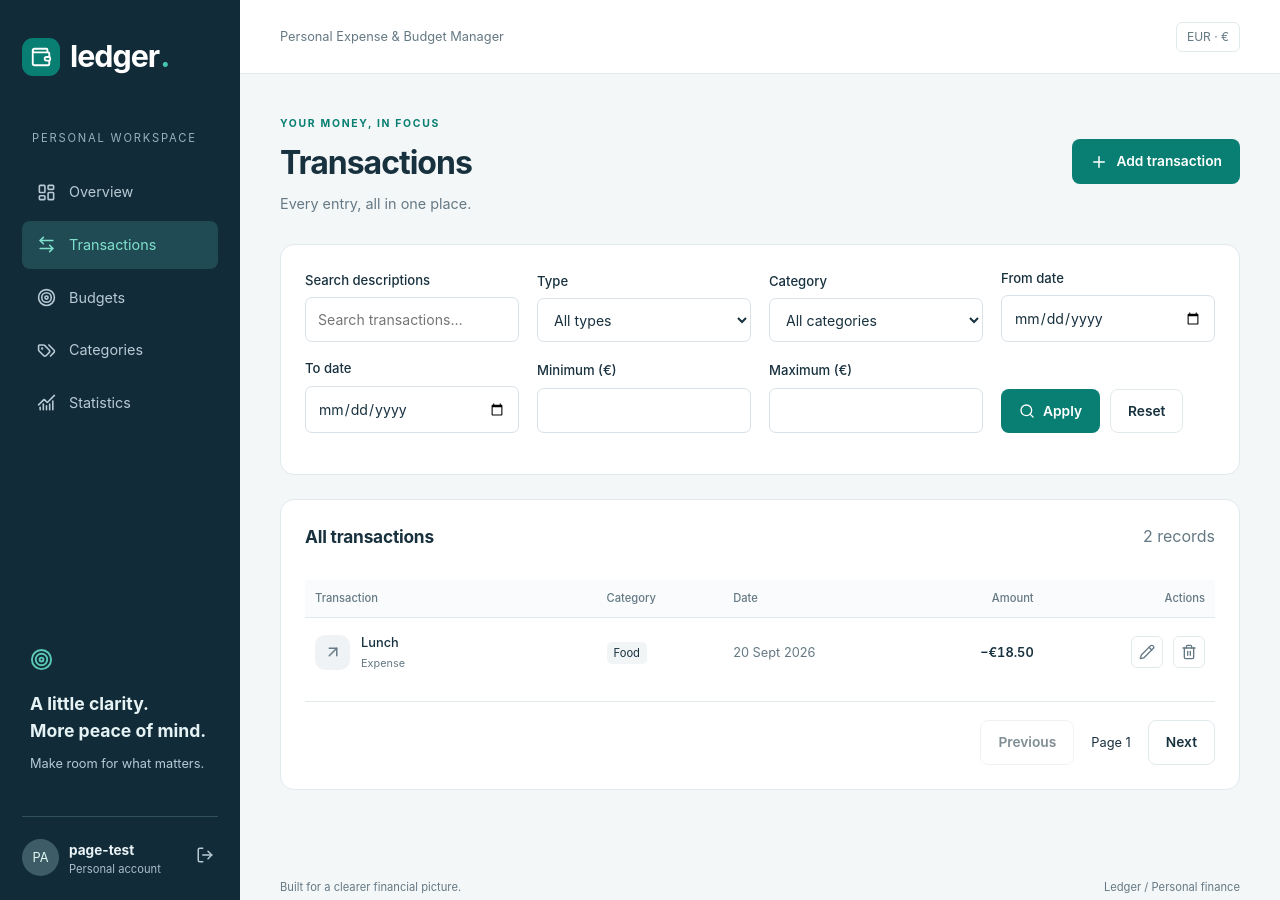
Test: transaction and budget pages with MSW › moves between transaction pages and deletes the last row on a later page
Expected: the text "Lunch" is shown, [361, 633, 405, 652]
Click the button "Next".
click(1181, 743)  # box [1148, 720, 1215, 765]
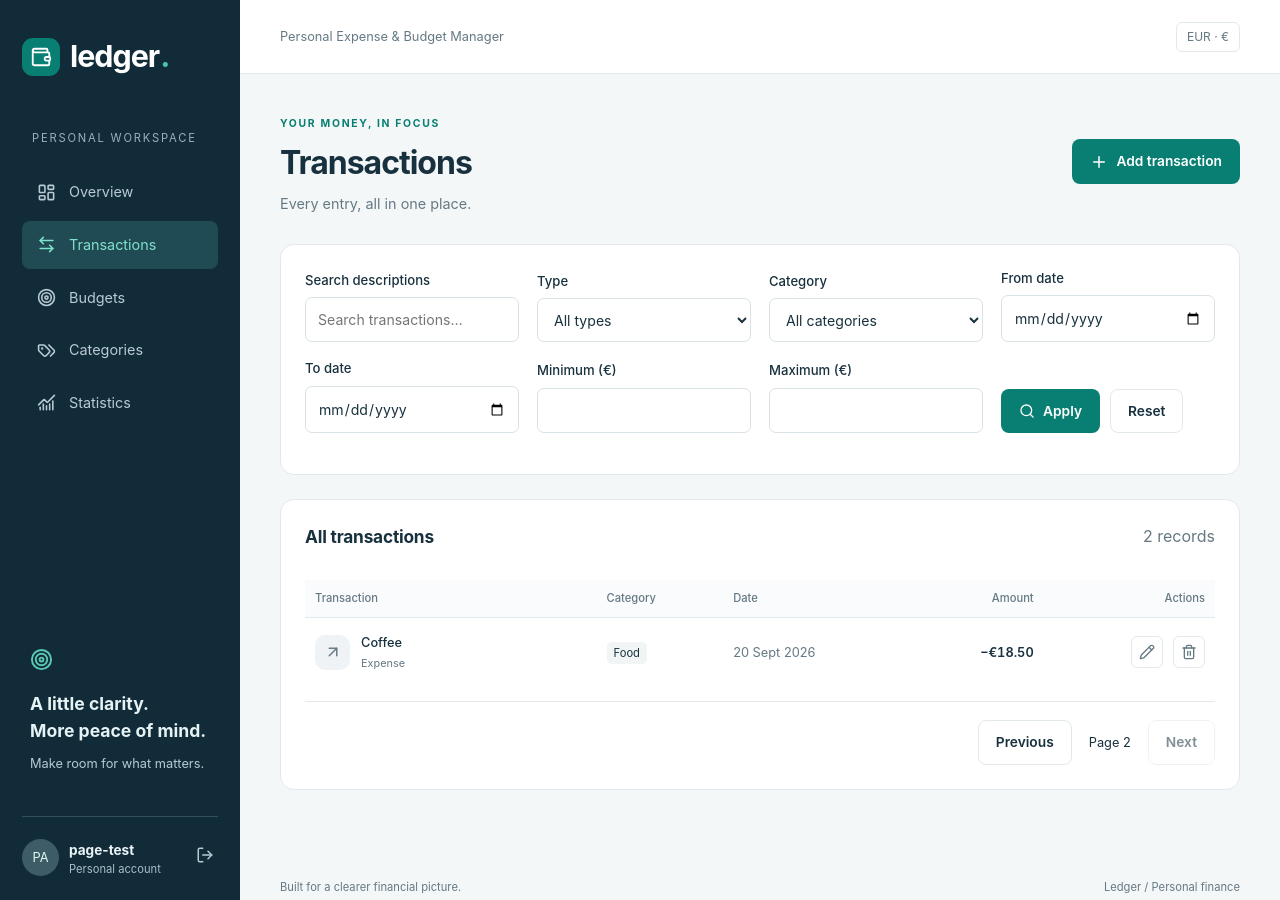
Expected: the text "Coffee" is shown, [361, 633, 405, 652]
Expected: the text "Page 2" is shown, [1089, 733, 1131, 752]
Click the button "Previous".
click(1025, 743)  # box [978, 720, 1072, 765]
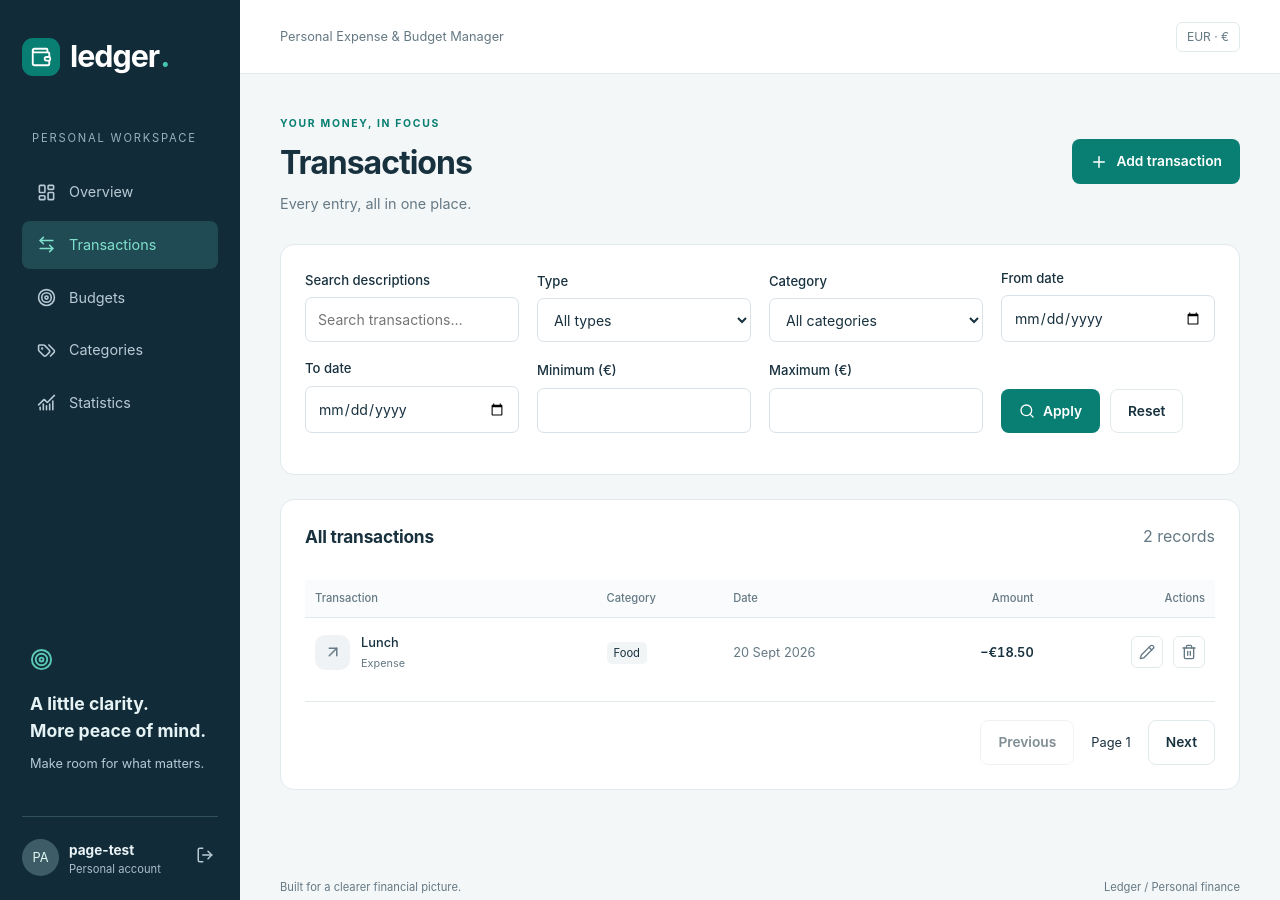
Expected: the text "Lunch" is shown, [361, 633, 405, 652]
Click the button "Next".
click(1181, 743)  # box [1148, 720, 1215, 765]
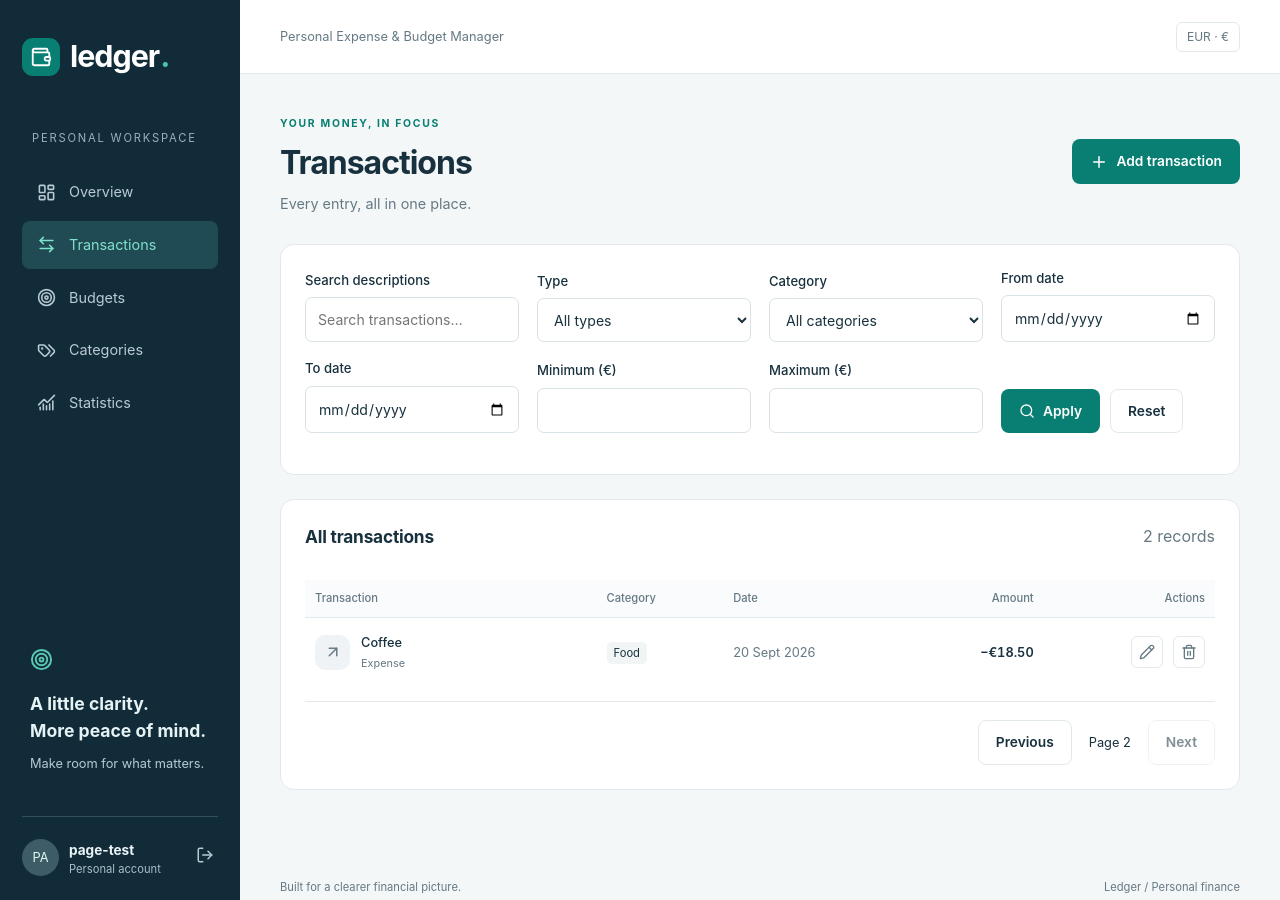
Expected: the text "Coffee" is shown, [361, 633, 405, 652]
Click the button named "Delete Coffee".
click(1189, 652)  # box [1173, 636, 1205, 668]
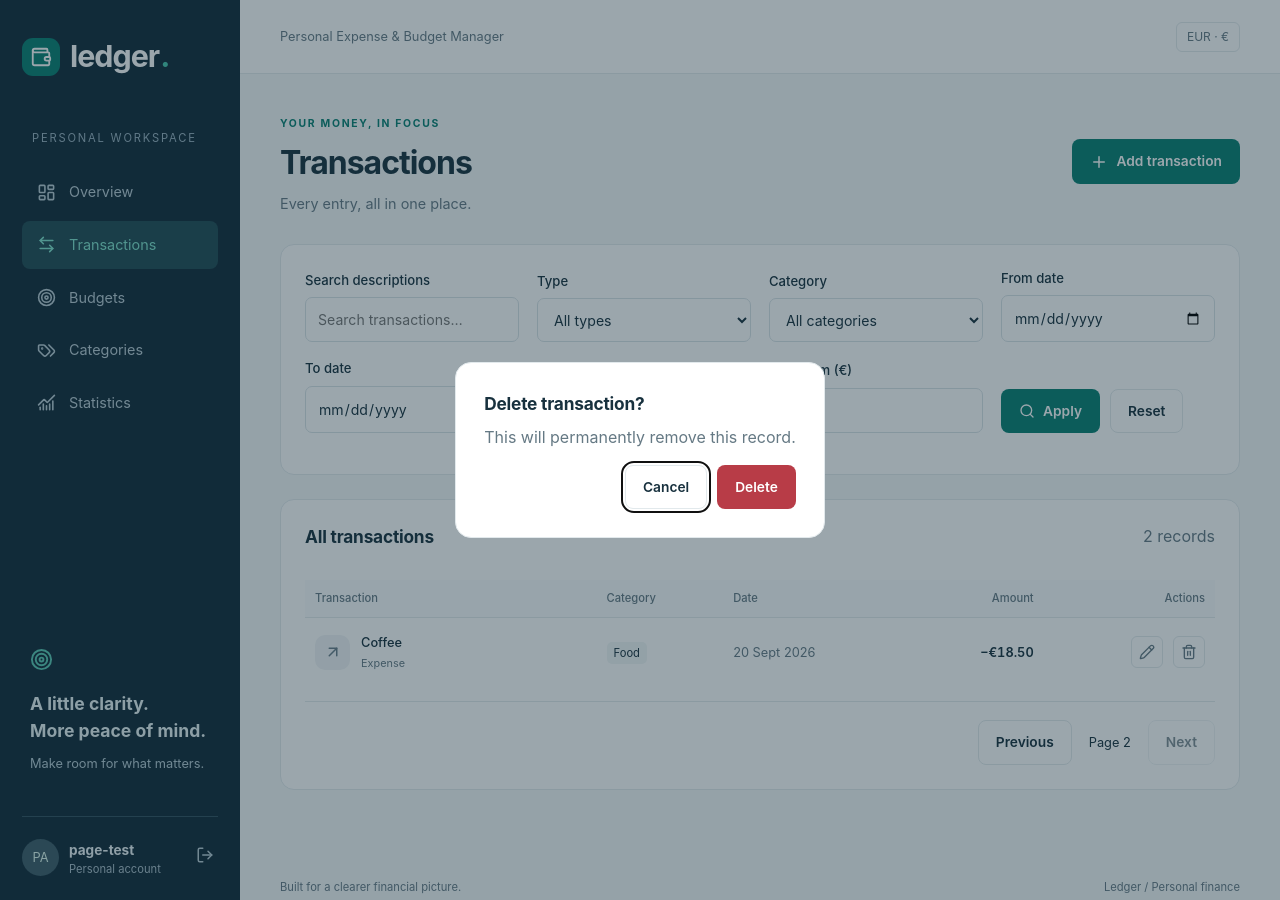
Click the button "Delete".
click(756, 487)  # box [717, 465, 796, 509]
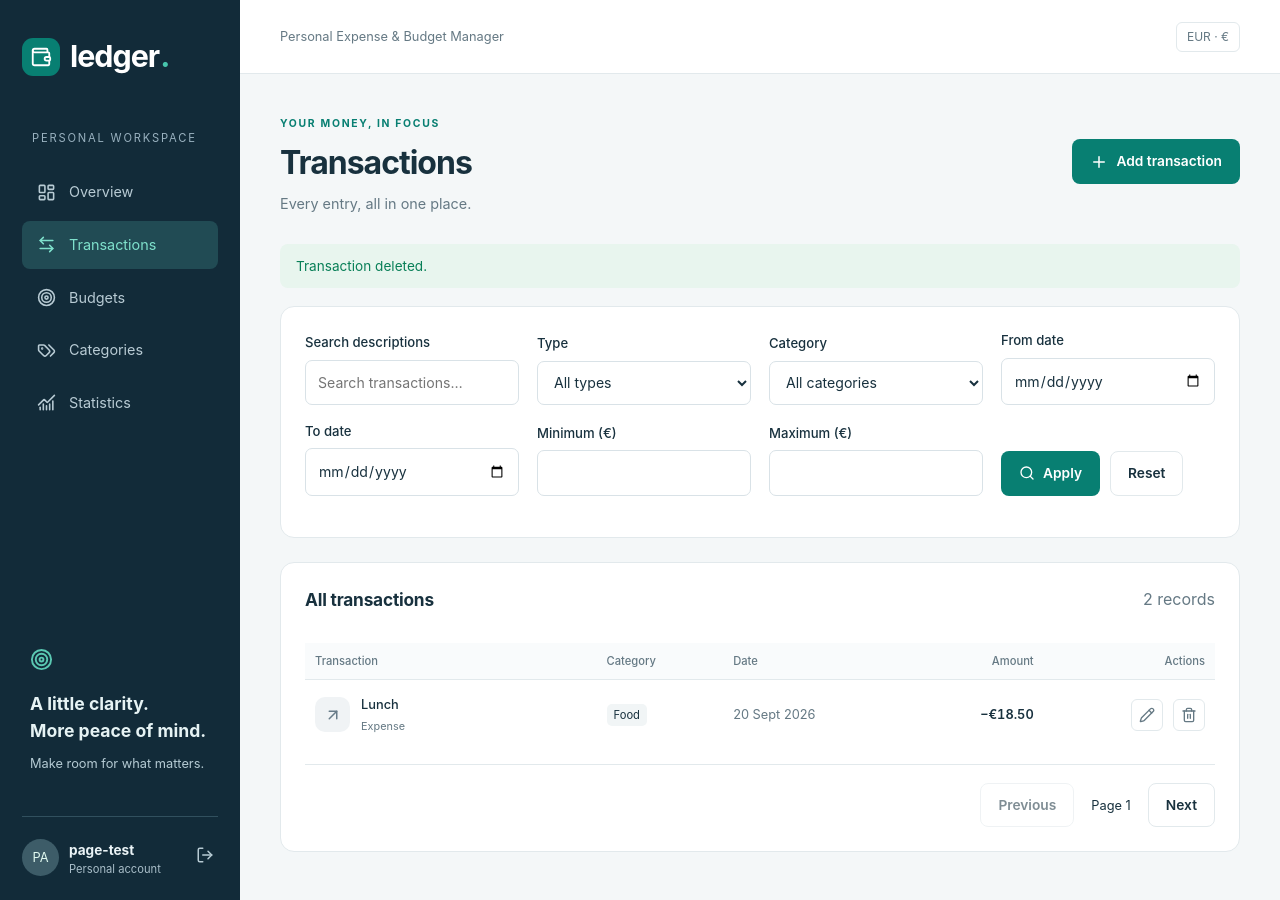
Expected: the message reads "Transaction deleted.", [296, 258, 427, 274]
Expected: the text "Page 1" is shown, [1091, 796, 1131, 815]
Expected: the text "Lunch" is shown, [361, 695, 405, 714]
